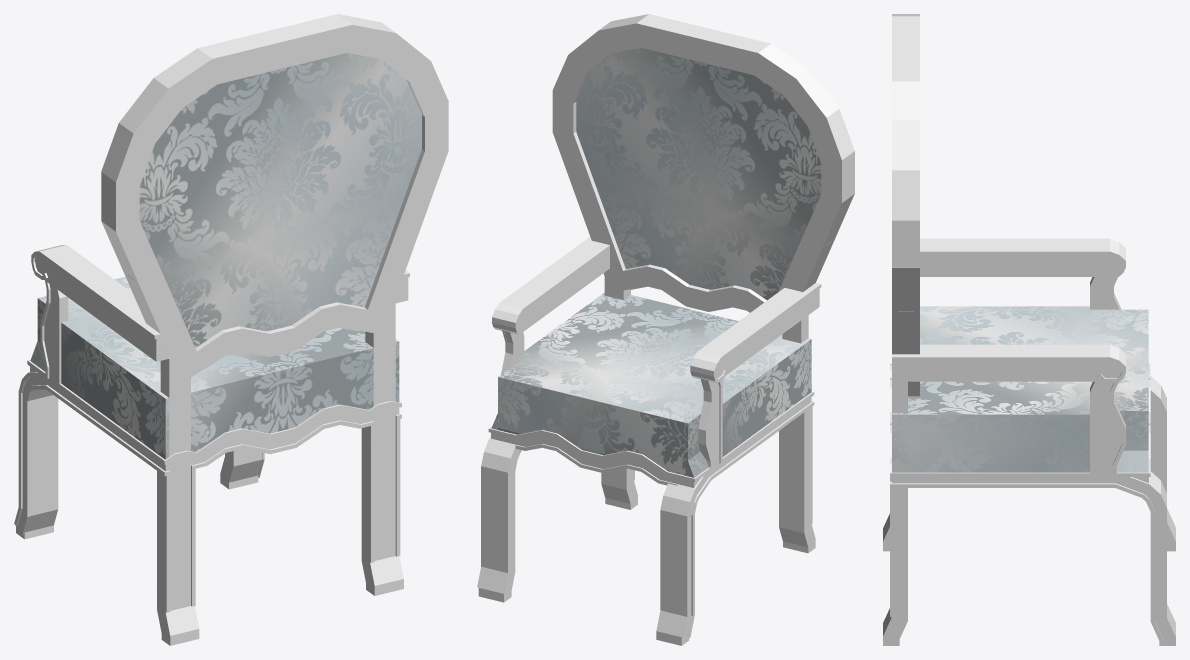
Rendered from white_chair.obj.
3 views of the same model, side by side, from view 1: azimuth 30°, elevation 25°; view 2: azimuth 150°, elevation 25°; view 3: azimuth 270°, elevation 25° (orthographic). The views are drawn at different scales.
Parts seen in each view (by area): view 1: cube.130, cube, cube.123, cube.113, cube.122, cube.208, cube.153, cube.154, cube.175, cube.132, cube.116, cube.117 (+27 smaller); view 2: cube.130, cube, cube.000, cube.123, cube.018, cube.208, cube.154, cube.122, cube.152, cube.113, cube.175, cube.132 (+16 smaller); view 3: cube, cube.208, cube.018, cube.000, cube.122, cube.153, cube.001, cube.123, cube.119, cube.120, cube.121, cube.012 (+11 smaller).
Boxes of the visible parts, bbox=[...] form: cube.130: bbox=[158, 52, 397, 347]; cube: bbox=[61, 315, 399, 459]; cube.123: bbox=[198, 14, 352, 85]; cube.113: bbox=[101, 217, 204, 383]; cube.122: bbox=[360, 146, 448, 334]; cube.208: bbox=[41, 245, 170, 361]; cube.153: bbox=[361, 419, 395, 566]; cube.154: bbox=[157, 469, 190, 611]; cube.175: bbox=[22, 393, 58, 516]; cube.132: bbox=[397, 72, 421, 215]; cube.116: bbox=[119, 78, 186, 147]; cube.117: bbox=[154, 48, 221, 107]; cube.130: bbox=[597, 47, 804, 300]; cube: bbox=[524, 292, 811, 456]; cube.000: bbox=[498, 357, 703, 476]; cube.123: bbox=[636, 14, 770, 74]; cube.018: bbox=[501, 238, 609, 331]; cube.208: bbox=[698, 283, 819, 376]; cube.154: bbox=[779, 407, 811, 533]; cube.122: bbox=[553, 129, 629, 292]; cube.152: bbox=[482, 466, 515, 576]; cube.113: bbox=[778, 194, 854, 334]; cube.175: bbox=[660, 510, 691, 617]; cube.132: bbox=[576, 65, 597, 189]; cube: bbox=[892, 306, 1089, 472]; cube.208: bbox=[920, 239, 1109, 276]; cube.018: bbox=[892, 344, 1109, 381]; cube.000: bbox=[1090, 309, 1148, 450]; cube.122: bbox=[892, 267, 919, 396]; cube.153: bbox=[892, 488, 907, 621]; cube.001: bbox=[892, 472, 1148, 486]; cube.123: bbox=[892, 16, 919, 81]; cube.119: bbox=[892, 119, 919, 170]; cube.120: bbox=[892, 170, 919, 220]; cube.121: bbox=[892, 220, 919, 267]; cube.012: bbox=[1094, 412, 1116, 472].
Bounding box in the file's own units: 1.42 × 2.34 × 1.14.
